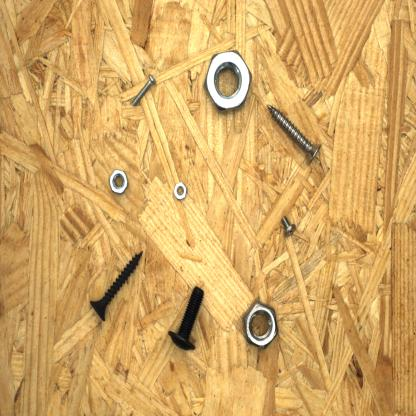screw: (85, 246, 146, 325), (266, 101, 324, 168), (165, 281, 210, 354), (129, 72, 159, 111), (278, 212, 298, 240)
